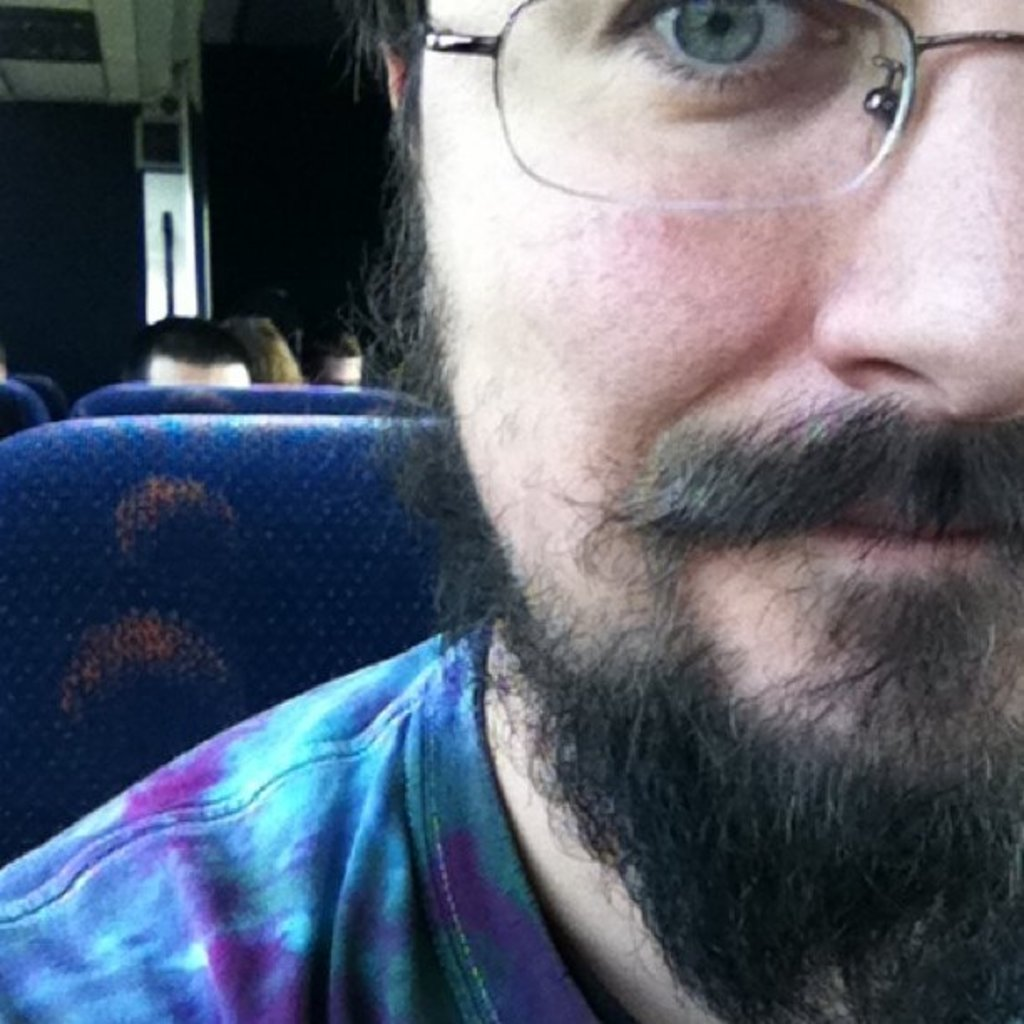Human-face: (407, 0, 1022, 848), (137, 356, 244, 387), (321, 351, 360, 373)
